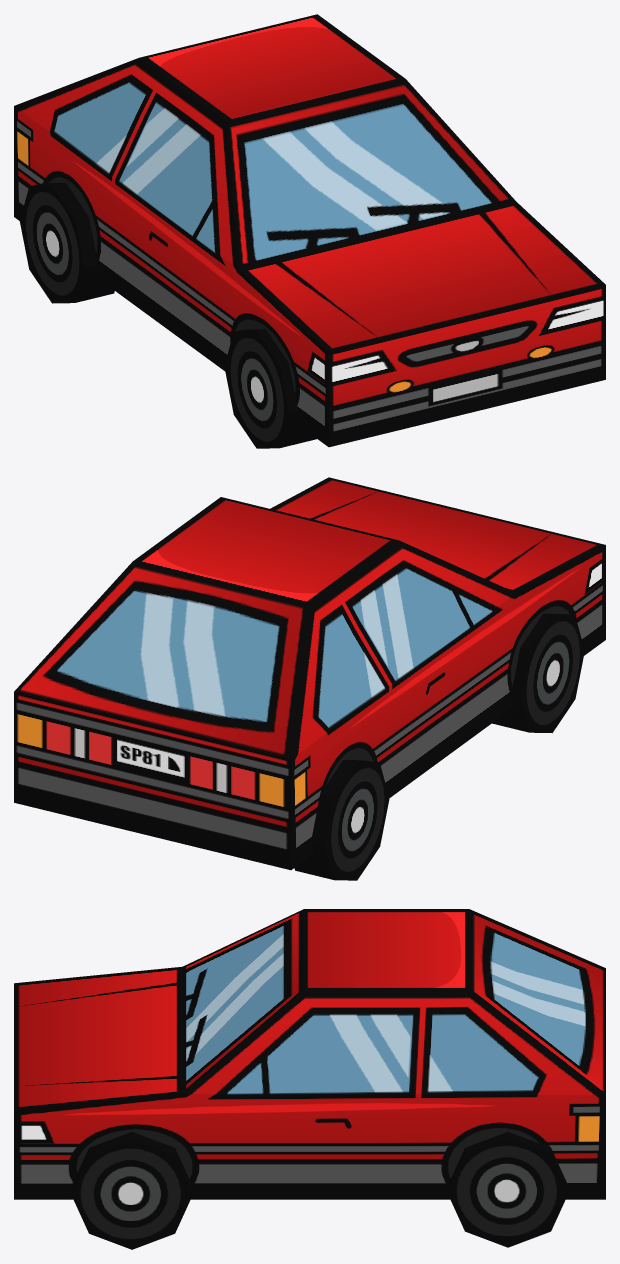
File: car3_1.gltf
3 renders of one model, top to bottom at view 1: azimuth 30°, elevation 25°; view 2: azimuth 150°, elevation 25°; view 3: azimuth 270°, elevation 25°, orthographic. The views are drawn at different scales.
Parts seen in each view (by area): view 1: Cube; view 2: Cube; view 3: Cube.
Boxes of the visible parts, bbox=[...] form: Cube: bbox=[14, 14, 605, 448]; Cube: bbox=[14, 477, 605, 880]; Cube: bbox=[14, 909, 605, 1249].
Bounding box in the file's own units: 2.83 × 2.15 × 5.01.
Materials: 1 (1 with a texture image).
